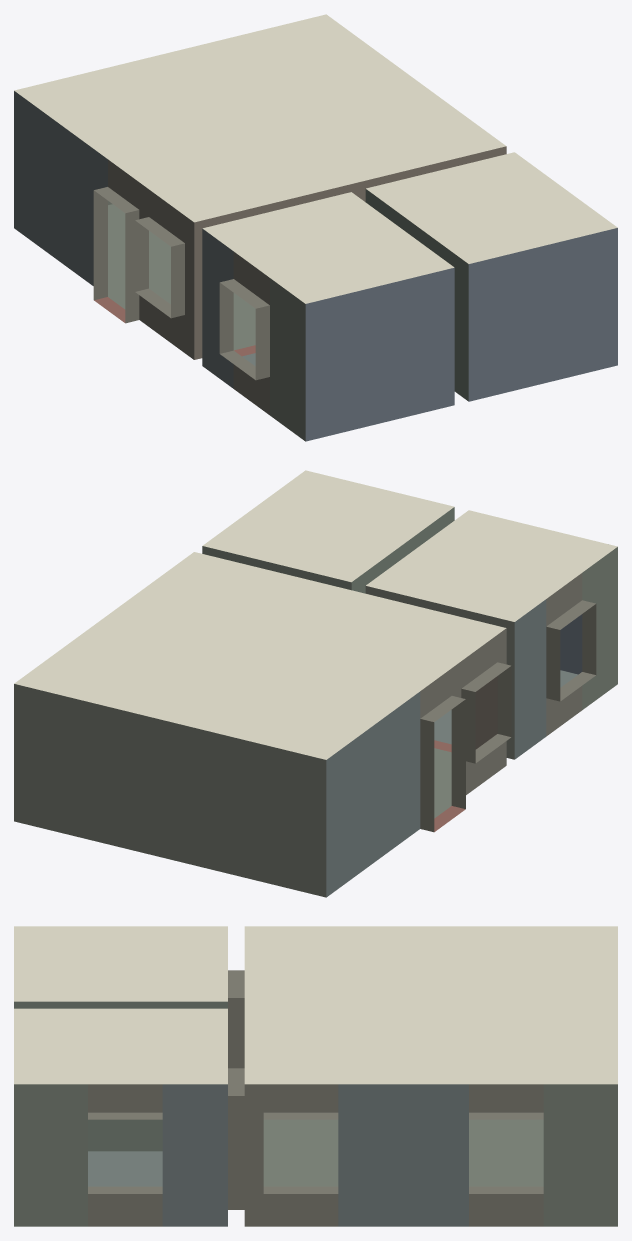
File: sveitseria1.fbx
3 views of the same model, one above another, from view 1: azimuth 30°, elevation 25°; view 2: azimuth 150°, elevation 25°; view 3: azimuth 270°, elevation 25° (orthographic). The views are drawn at different scales.
Parts seen in each view (by area): view 1: katto, seinat, lattia; view 2: seinat, katto, lattia; view 3: katto, seinat, lattia.
Boxes of the visible parts, <box> form: katto: <box>14,14,617,303</box>; seinat: <box>14,91,617,441</box>; lattia: <box>94,204,255,366</box>; seinat: <box>14,507,617,897</box>; katto: <box>14,470,617,759</box>; lattia: <box>434,670,577,831</box>; katto: <box>14,926,617,1084</box>; seinat: <box>14,970,617,1226</box>; lattia: <box>88,1119,543,1186</box>.
Bounding box in the file's own units: 647 × 250 × 960.
